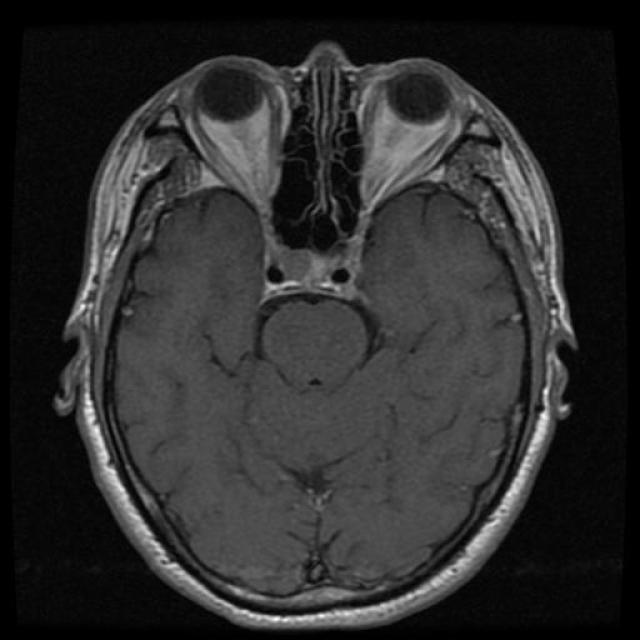pituitary: (258, 242, 372, 304)
